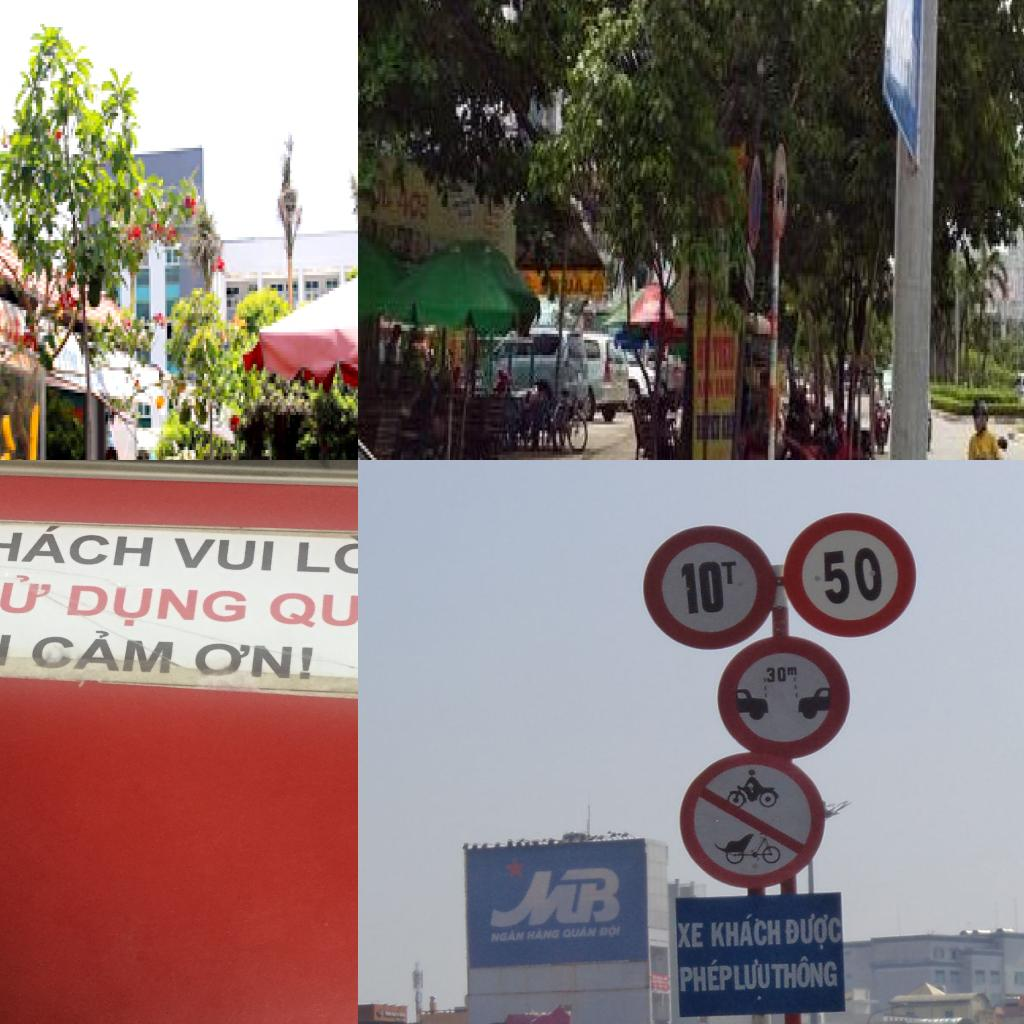text: (58, 579, 254, 634), (478, 865, 622, 929), (0, 520, 160, 572), (28, 626, 178, 678), (264, 579, 358, 633), (170, 533, 282, 577), (189, 639, 298, 681), (822, 544, 888, 607), (287, 527, 358, 580), (680, 559, 741, 617), (709, 911, 782, 949), (0, 573, 58, 618), (782, 911, 843, 953), (770, 954, 839, 990), (678, 958, 733, 994), (732, 958, 774, 1003), (398, 186, 432, 225), (676, 920, 705, 949), (765, 666, 799, 684), (489, 928, 527, 944), (524, 926, 562, 942), (561, 924, 600, 939), (596, 922, 625, 940)
